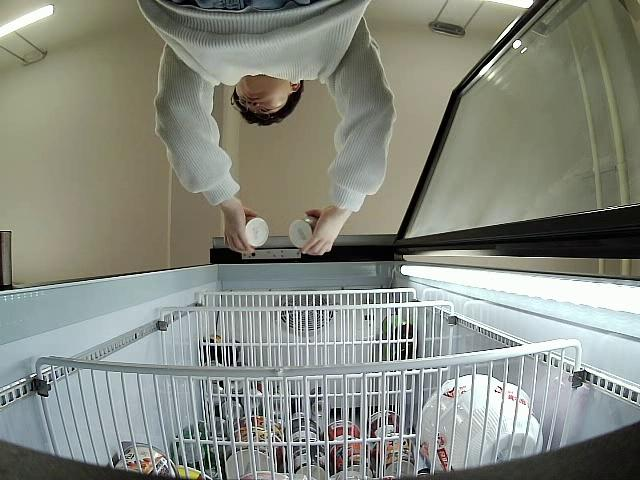00_hand: (301, 206, 349, 256), (217, 200, 259, 256)
04_chapagetti_S: (289, 215, 321, 249), (240, 213, 269, 249)
